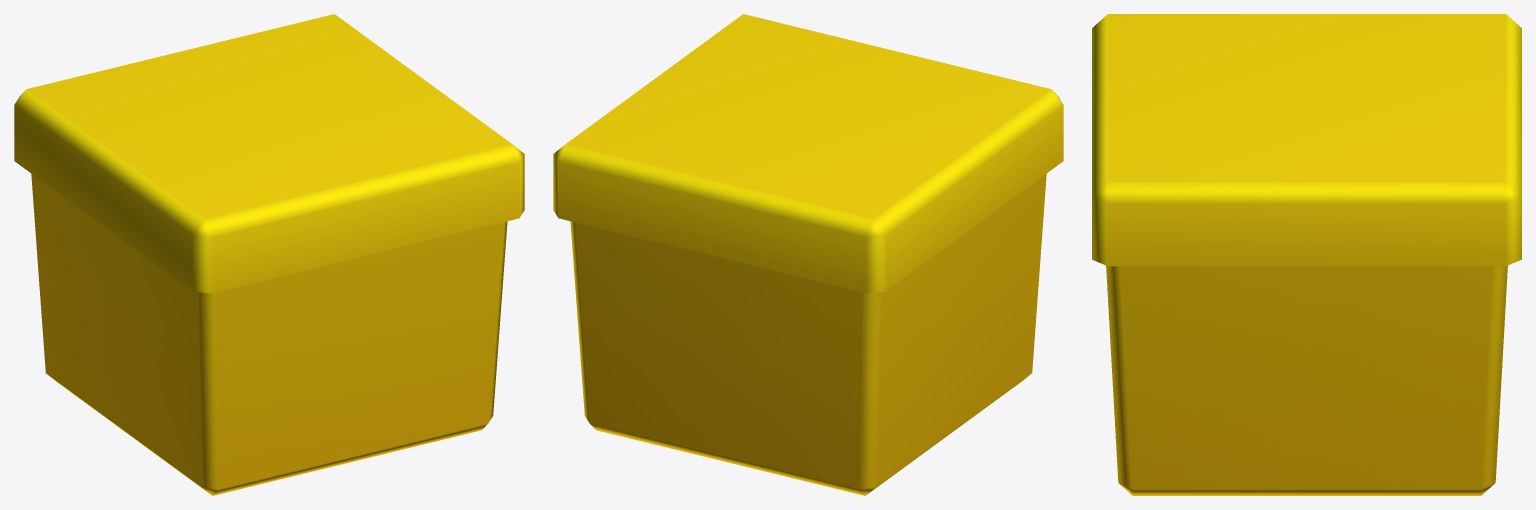
The model's file is giftbox_049.fbx.
3 views of the same model, side by side, from view 1: azimuth 30°, elevation 25°; view 2: azimuth 150°, elevation 25°; view 3: azimuth 270°, elevation 25° (orthographic). The views are drawn at different scales.
Visible parts, largest first — view 1: giftbox_049; view 2: giftbox_049; view 3: giftbox_049.
Boxes of the visible parts, bbox=[...] form: giftbox_049: bbox=[14, 14, 524, 495]; giftbox_049: bbox=[553, 14, 1063, 495]; giftbox_049: bbox=[1092, 14, 1521, 495].
Bounding box in the file's own units: 192 × 192 × 160.
